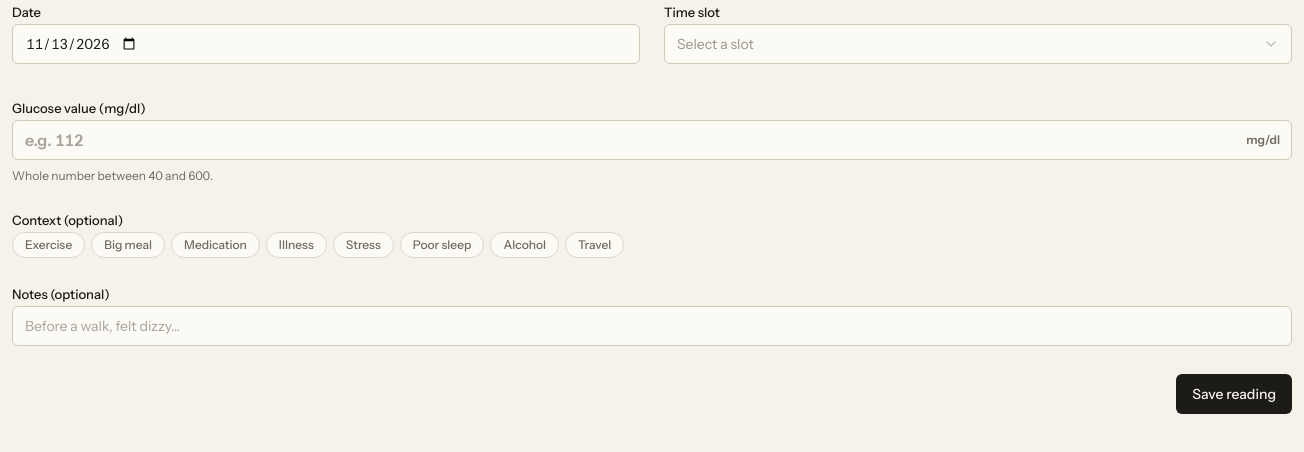
Test: ReadingForm › blocks a fifth reading on the same day
Click the dropdown named "time slot" at (715, 44), box [664,24,1292,64]
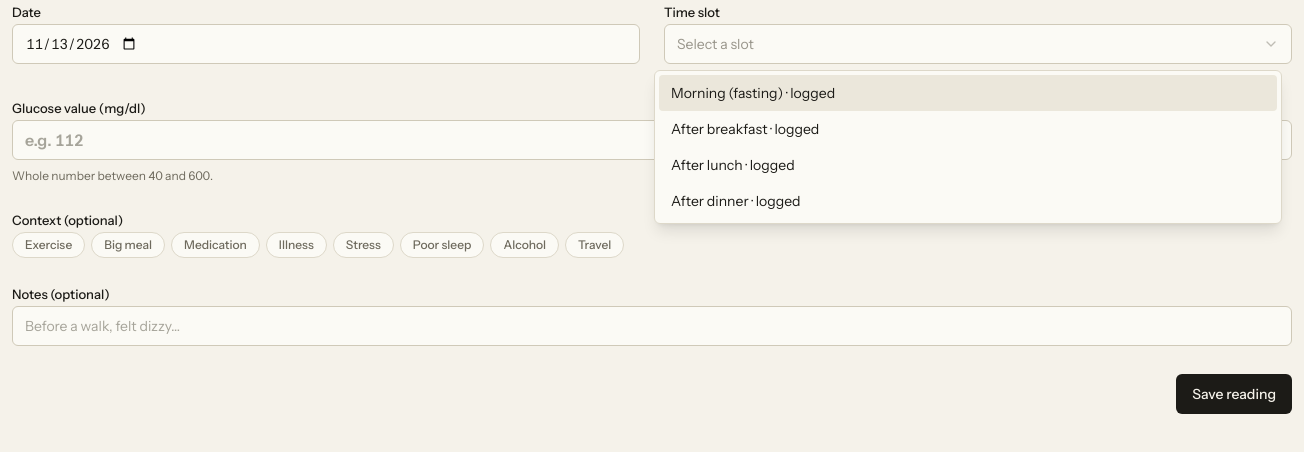
Click the option "Morning (fasting) · logged" at (727, 93), box [659,75,1277,111]
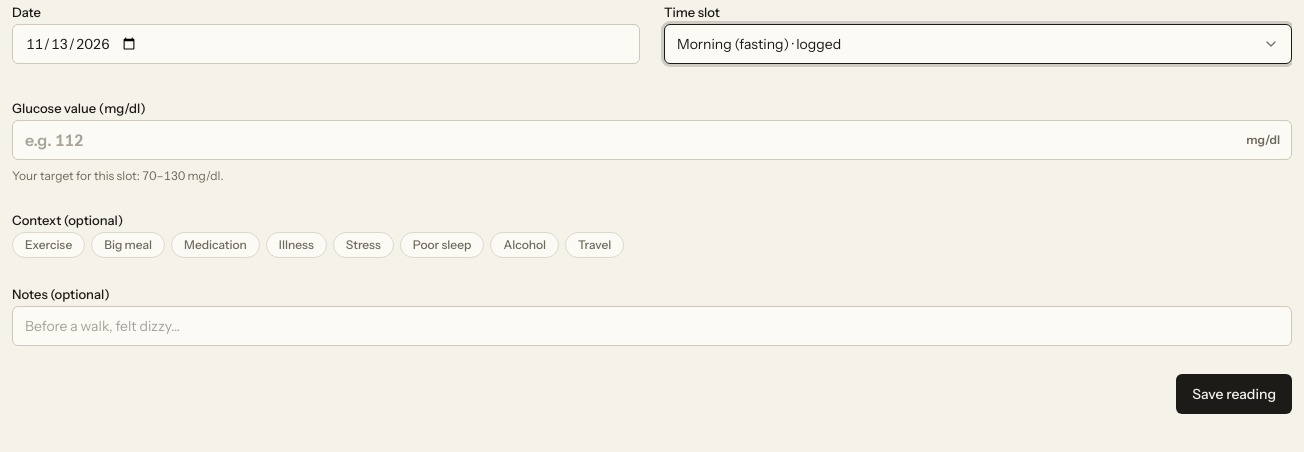
Type "100" into the field labelled "Glucose value (mg/dl)" at (652, 140), box [12,120,1292,160]
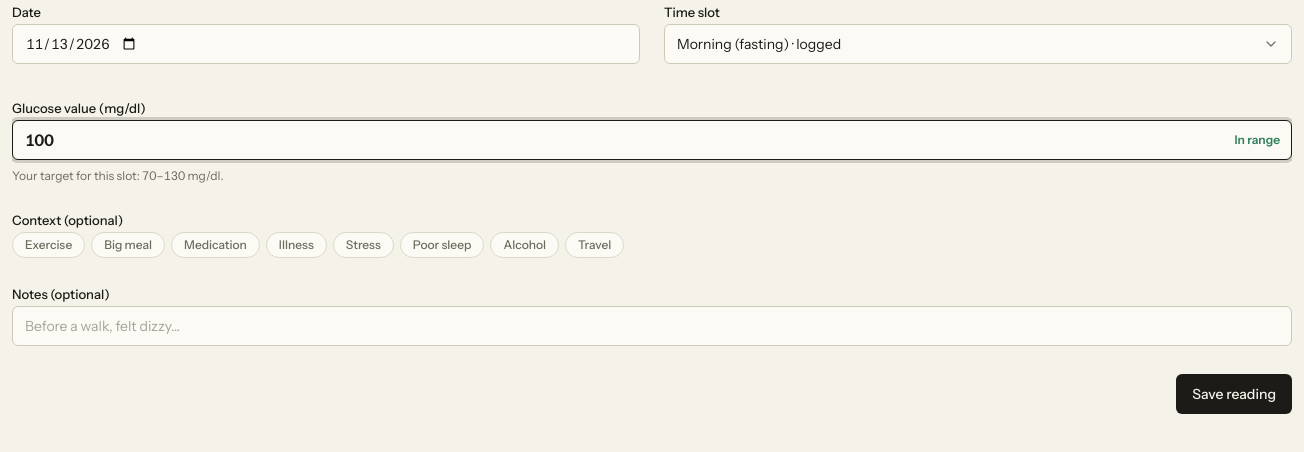
Click the button "Save reading" at (1234, 394), box [1176,374,1292,414]
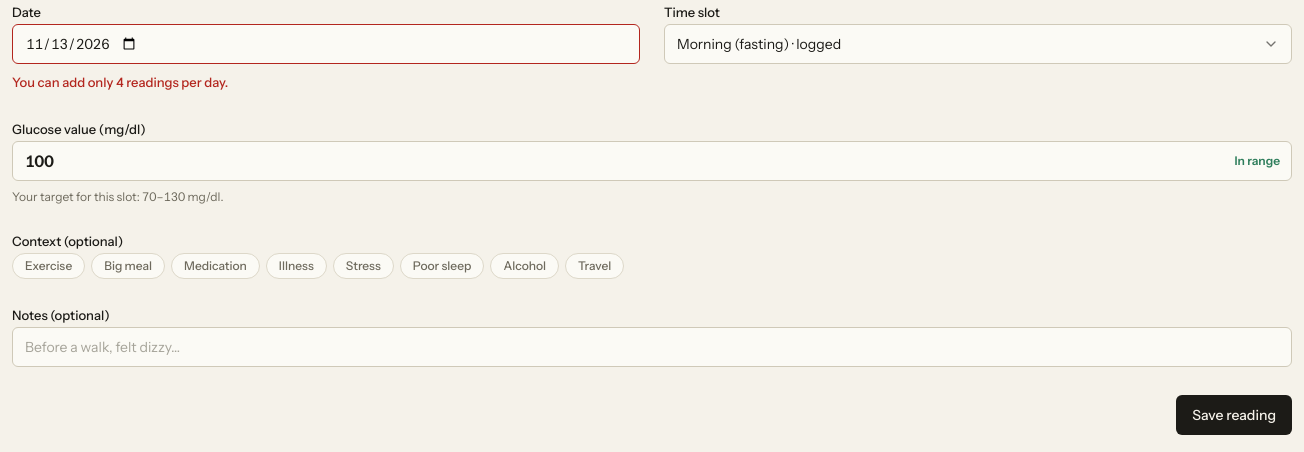
Result: the text "You can add only 4 readings per day." is shown at [12,74,228,90]
